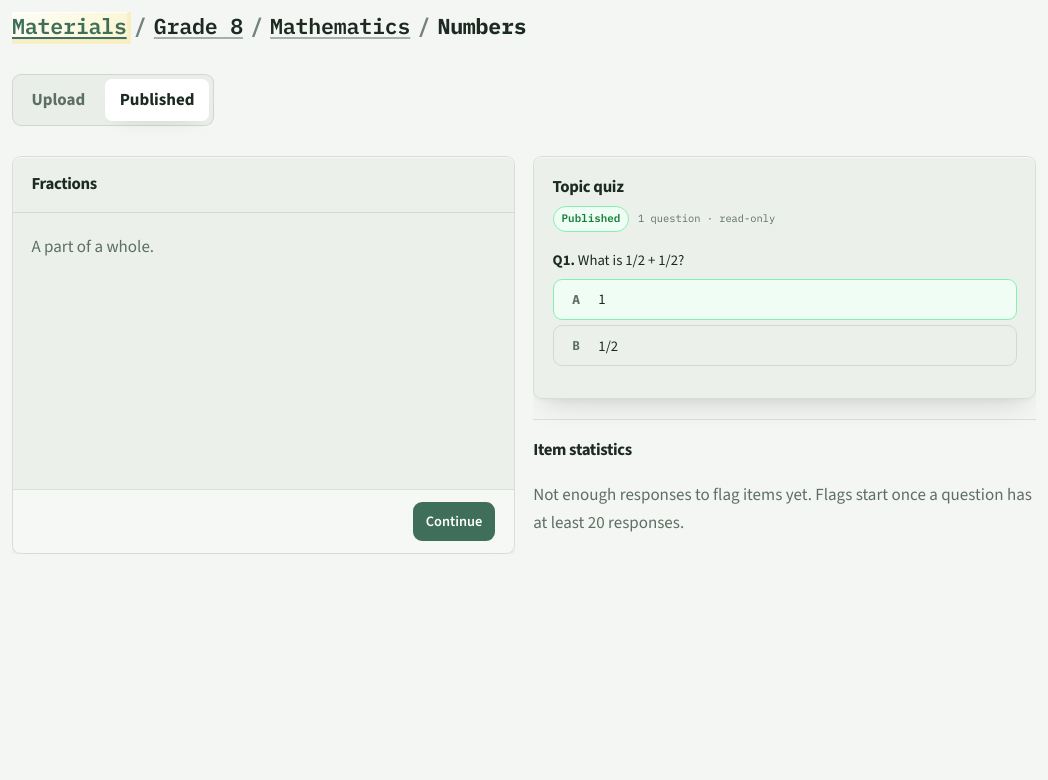
Test case: AdminMaterialsTopicDetailPage › keeps the Upload tab as a blank form plus history when a published run exists
Click the tab "Upload": (58, 100) 17,79 -> 100,121
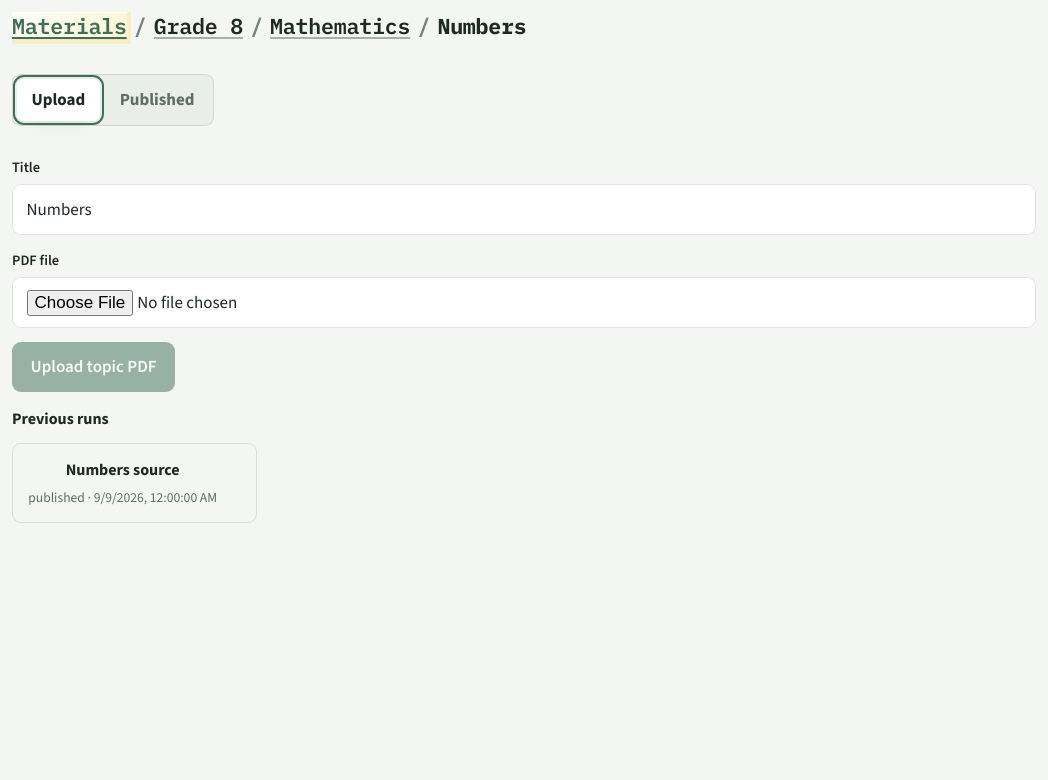
Expected: the button "Upload topic PDF" is disabled, 12,342 -> 175,392
Expected: the heading "Previous runs" is shown, 12,408 -> 109,429
Expected: the text "What is 1/2 + 1/2?" is gone
